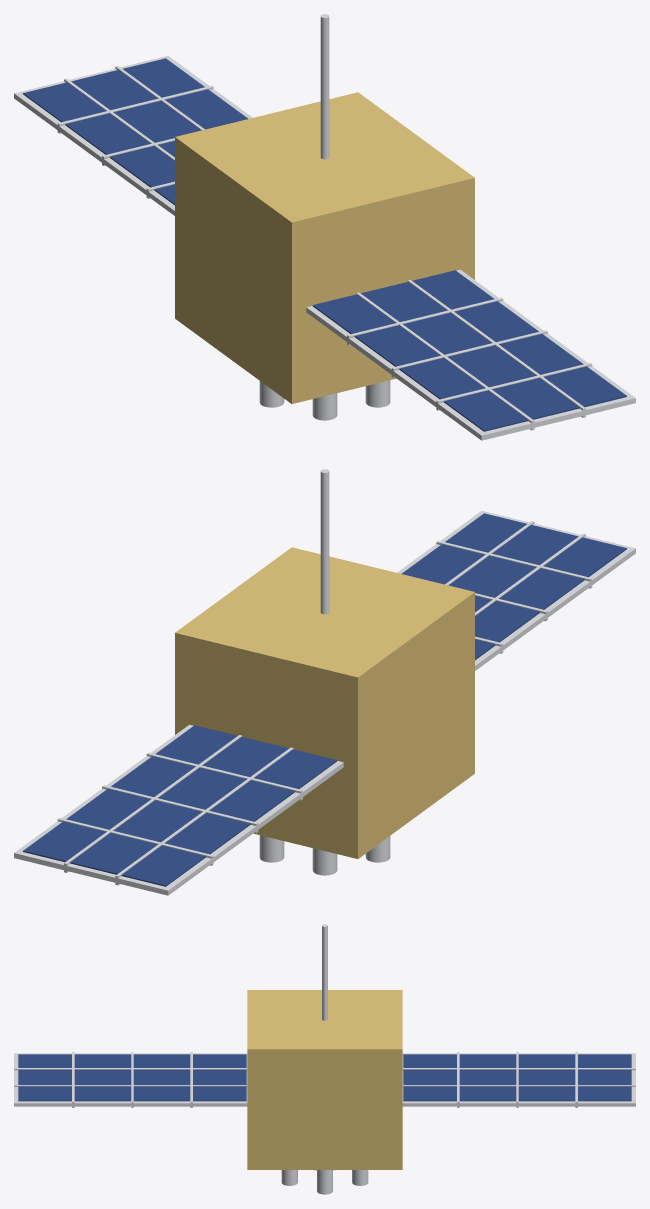
Rendered from gps.glb.
3 views of the same model, one above another, from view 1: azimuth 30°, elevation 25°; view 2: azimuth 150°, elevation 25°; view 3: azimuth 270°, elevation 25° (orthographic). The views are drawn at different scales.
Bounding box in the file's own units: 1.9 × 3.7 × 8.4.
